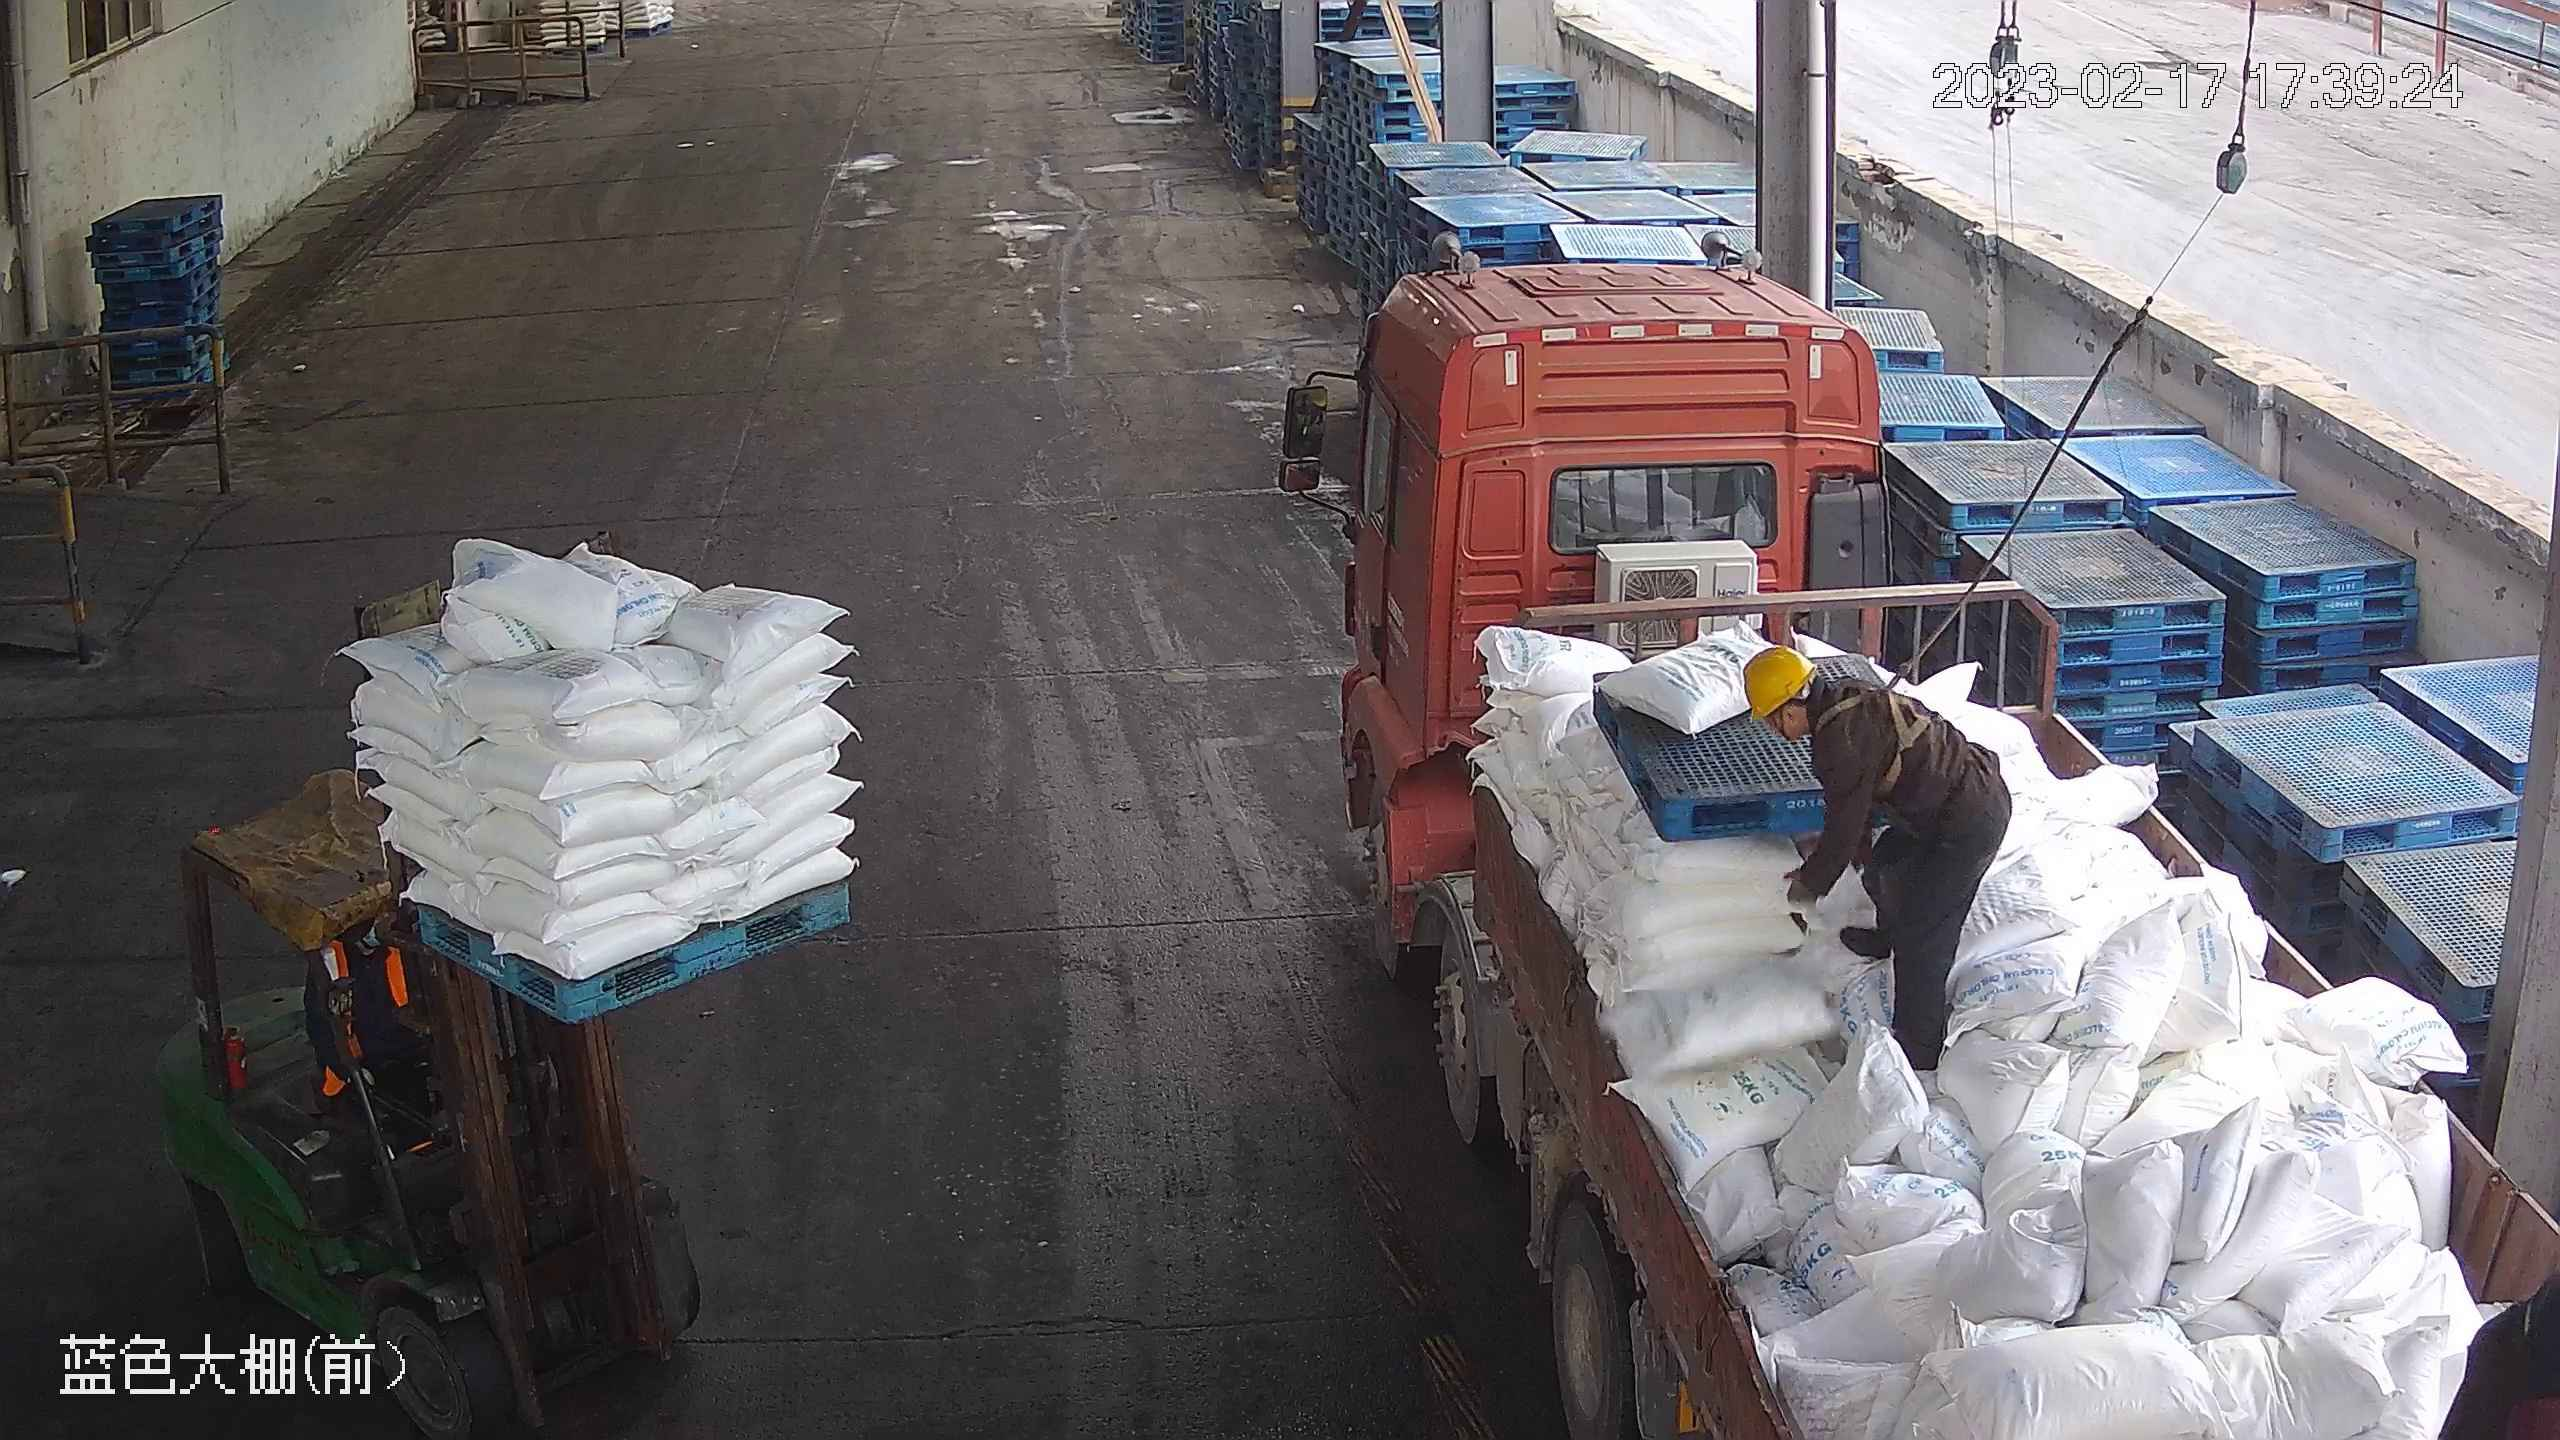belt: (1814, 658, 1930, 788)
head: (1739, 643, 1899, 793)
helmet: (1741, 642, 1814, 722)
people: (1736, 637, 2012, 1073)
truck: (1273, 245, 2560, 1400)
